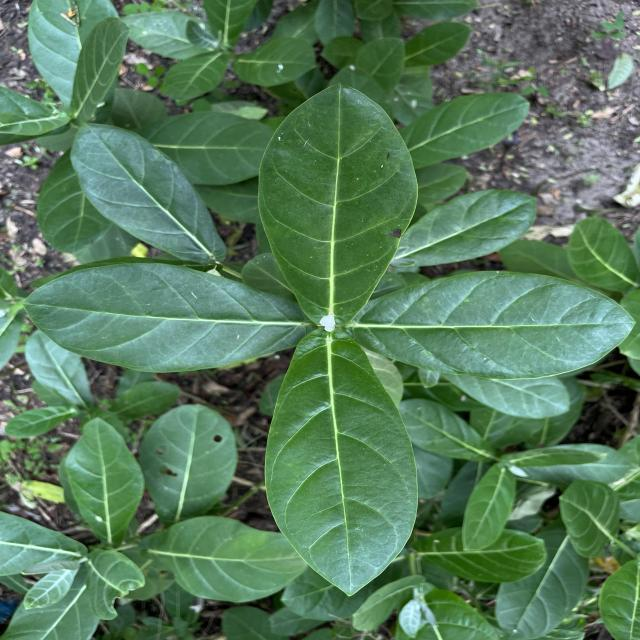Calotropis gigantea: (260, 328, 422, 600), (256, 80, 421, 329), (22, 260, 315, 374), (351, 268, 638, 382), (68, 120, 229, 267), (140, 512, 310, 606), (140, 402, 240, 525), (394, 188, 538, 268), (492, 526, 589, 640), (65, 416, 146, 548), (400, 91, 531, 169), (422, 526, 547, 585), (398, 398, 496, 462), (557, 478, 622, 558), (461, 464, 518, 552)
